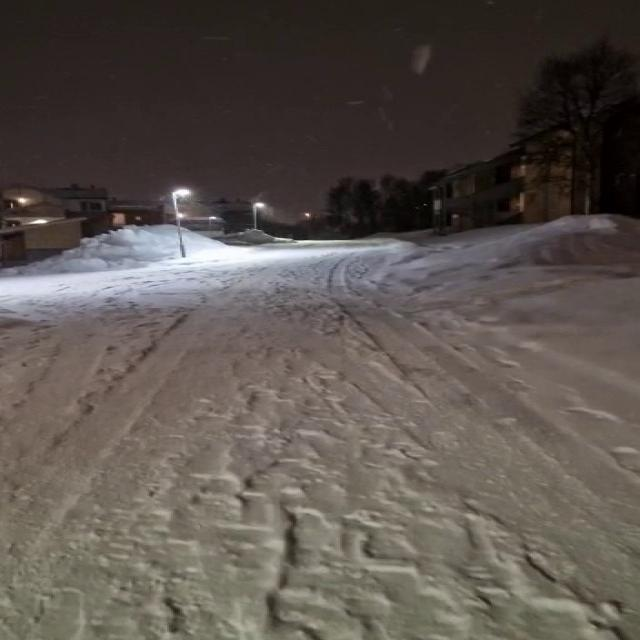path: (0, 240, 640, 640)
